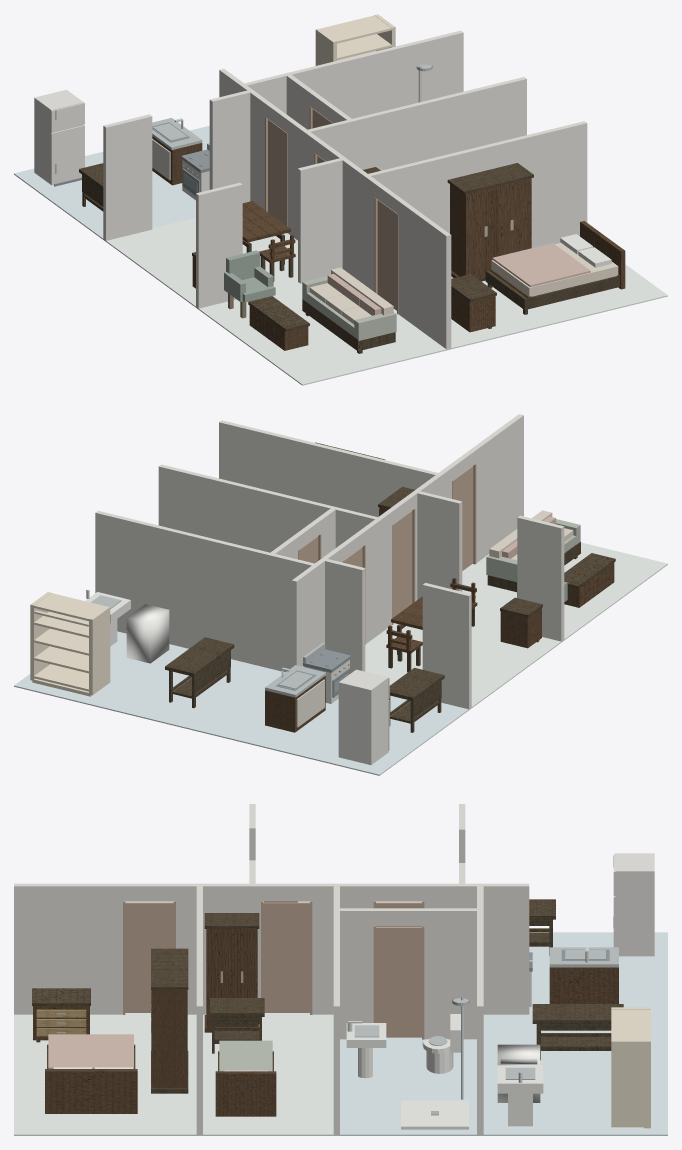
3 renders of one model, top to bottom at view 1: azimuth 30°, elevation 25°; view 2: azimuth 150°, elevation 25°; view 3: azimuth 270°, elevation 25°, orthographic. The views are drawn at different scales.
Visible parts, largest first — view 1: H34_WALL_08, H34_WALL_09, H34_WALL_10, H34_FLOOR_00_SALA_DE_ESTAR, H34_WALL_04, H34_WALL_02, H34_WALL_01, H34_FLOOR_01_JANTAR_/_ENTRADA, H34_FLOOR_03_QUARTO_CASAL, H34_WALL_00, H34_FLOOR_02_COZINHA, H34_WALL_03 (+33 smaller); view 2: H34_WALL_10, H34_WALL_08, H34_FLOOR_07_LAVANDERIA_/_APOIO, H34_WALL_09, H34_FLOOR_02_COZINHA, H34_WALL_04, H34_FLOOR_01_JANTAR_/_ENTRADA, H34_WALL_02, H34_FLOOR_00_SALA_DE_ESTAR, H34_WALL_00, H34_FURN_07_fridge__05__gabinete, H34_WALL_01 (+29 smaller); view 3: H34_WALL_04, H34_FLOOR_07_LAVANDERIA_/_APOIO, H34_FLOOR_03_QUARTO_CASAL, H34_FLOOR_04_QUARTO_02, H34_FLOOR_06_BANHEIRO, H34_WALL_07, H34_WALL_12, H34_DOOR_01_LEAF, H34_FLOOR_02_COZINHA, H34_DOOR_03_LEAF, H34_WALL_05, H34_FURN_11_bed_double__07__cabeceira (+36 smaller).
Part boxes in pixels (x1,y1,x2,y2): H34_WALL_08: (366,121,587,247); H34_WALL_09: (308,77,526,170); H34_WALL_10: (244,30,463,118); H34_FLOOR_00_SALA_DE_ESTAR: (197,283,448,385); H34_WALL_04: (398,199,451,349); H34_WALL_02: (103,114,152,240); H34_WALL_01: (298,157,344,283); H34_FLOOR_01_JANTAR_/_ENTRADA: (104,217,298,308); H34_FLOOR_03_QUARTO_CASAL: (449,243,667,349); H34_WALL_00: (196,182,242,308); H34_FLOOR_02_COZINHA: (14,152,195,240); H34_WALL_03: (209,90,252,203); H34_WALL_10: (95,510,314,672); H34_WALL_08: (219,420,438,516); H34_FLOOR_07_LAVANDERIA_/_APOIO: (14,631,284,739); H34_WALL_09: (158,464,377,552); H34_FLOOR_02_COZINHA: (233,695,470,775); H34_WALL_04: (471,414,523,562); H34_FLOOR_01_JANTAR_/_ENTRADA: (365,619,562,708); H34_WALL_02: (422,583,471,709); H34_FLOOR_00_SALA_DE_ESTAR: (462,542,667,641); H34_WALL_00: (517,515,564,641); H34_FURN_07_fridge__05__gabinete: (338,669,388,764); H34_WALL_01: (417,490,462,599); H34_WALL_04: (14,883,123,1014); H34_FLOOR_07_LAVANDERIA_/_APOIO: (480,1013,667,1135); H34_FLOOR_03_QUARTO_CASAL: (14,1013,199,1135); H34_FLOOR_04_QUARTO_02: (200,1013,336,1135); H34_FLOOR_06_BANHEIRO: (337,1038,480,1135); H34_WALL_07: (423,883,529,1014); H34_WALL_12: (423,908,476,1039); H34_DOOR_01_LEAF: (263,902,309,1012); H34_FLOOR_02_COZINHA: (529,932,667,1013); H34_DOOR_03_LEAF: (376,927,421,1037); H34_WALL_05: (175,883,262,1014); H34_FURN_11_bed_double__07__cabeceira: (45,1069,137,1113).
Bounding box in the file's own units: 8.21 × 2.46 × 11.22.
Materials: 22 (3 with a texture image).
